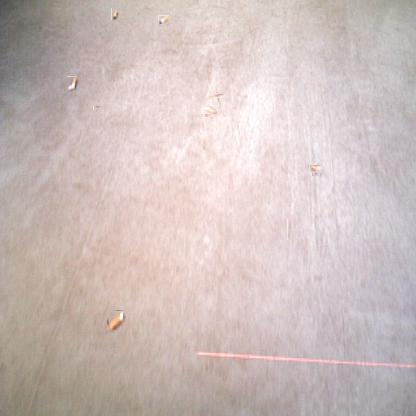dirty: (108, 310, 124, 330), (67, 76, 77, 91), (204, 104, 216, 115), (311, 164, 321, 175), (158, 15, 169, 24), (111, 8, 118, 21)
mark: (211, 89, 223, 101), (287, 218, 292, 240), (94, 105, 101, 112)
